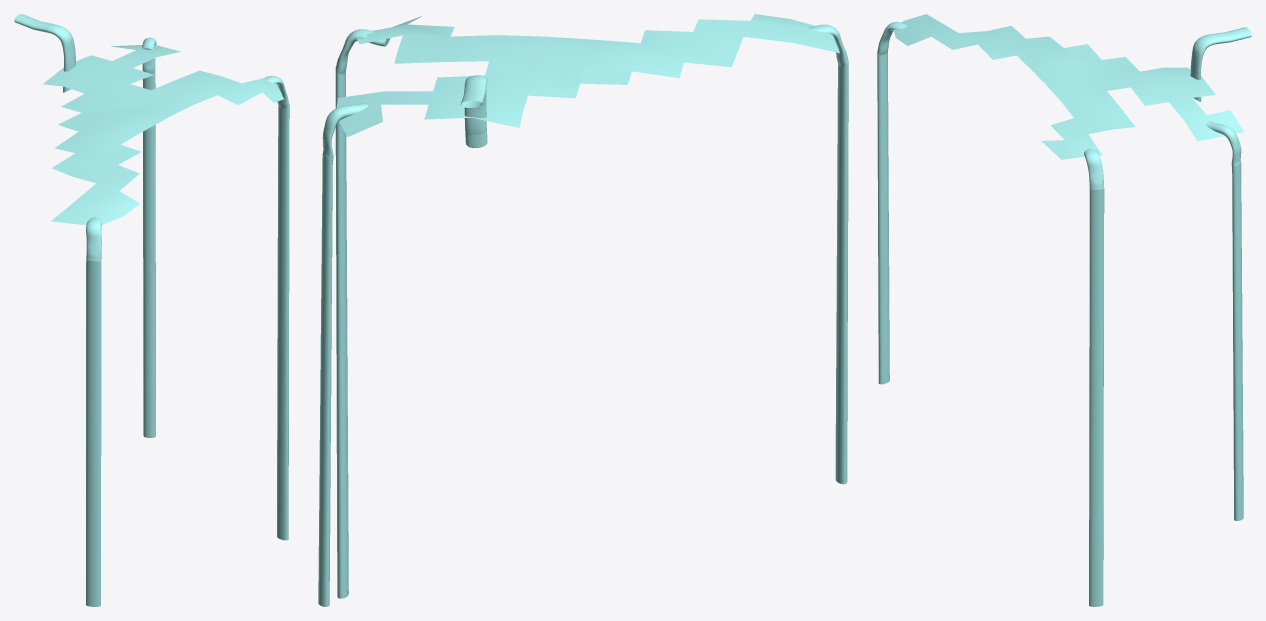
Rendered from Fluss.fbx.
The picture shows the model from 3 angles, left to right: view 1: azimuth 30°, elevation 25°; view 2: azimuth 150°, elevation 25°; view 3: azimuth 270°, elevation 25°; orthographic projection. The views are drawn at different scales.
Parts seen in each view (by area): view 1: Fluss, Wasserfall3, Wasserfall1, Wasserfall2, Wasserfall4Klein; view 2: Fluss, Wasserfall1, Wasserfall2, Wasserfall3, Wasserfall4Klein; view 3: Fluss, Wasserfall1, Wasserfall3, Wasserfall2, Wasserfall4Klein.
Boxes of the visible parts, x1,y1,x2,y2 form: Fluss: (43, 45, 283, 224); Wasserfall3: (86, 217, 102, 606); Wasserfall1: (264, 75, 289, 540); Wasserfall2: (142, 37, 156, 437); Wasserfall4Klein: (14, 14, 75, 92); Fluss: (336, 14, 839, 136); Wasserfall1: (335, 29, 390, 598); Wasserfall2: (318, 103, 367, 606); Wasserfall3: (809, 24, 848, 484); Wasserfall4Klein: (460, 75, 487, 147); Fluss: (893, 14, 1244, 159); Wasserfall1: (1084, 148, 1104, 606); Wasserfall3: (877, 21, 906, 384); Wasserfall2: (1205, 121, 1243, 520); Wasserfall4Klein: (1190, 27, 1251, 101).
Bounding box in the file's own units: 277 × 415 × 288.
